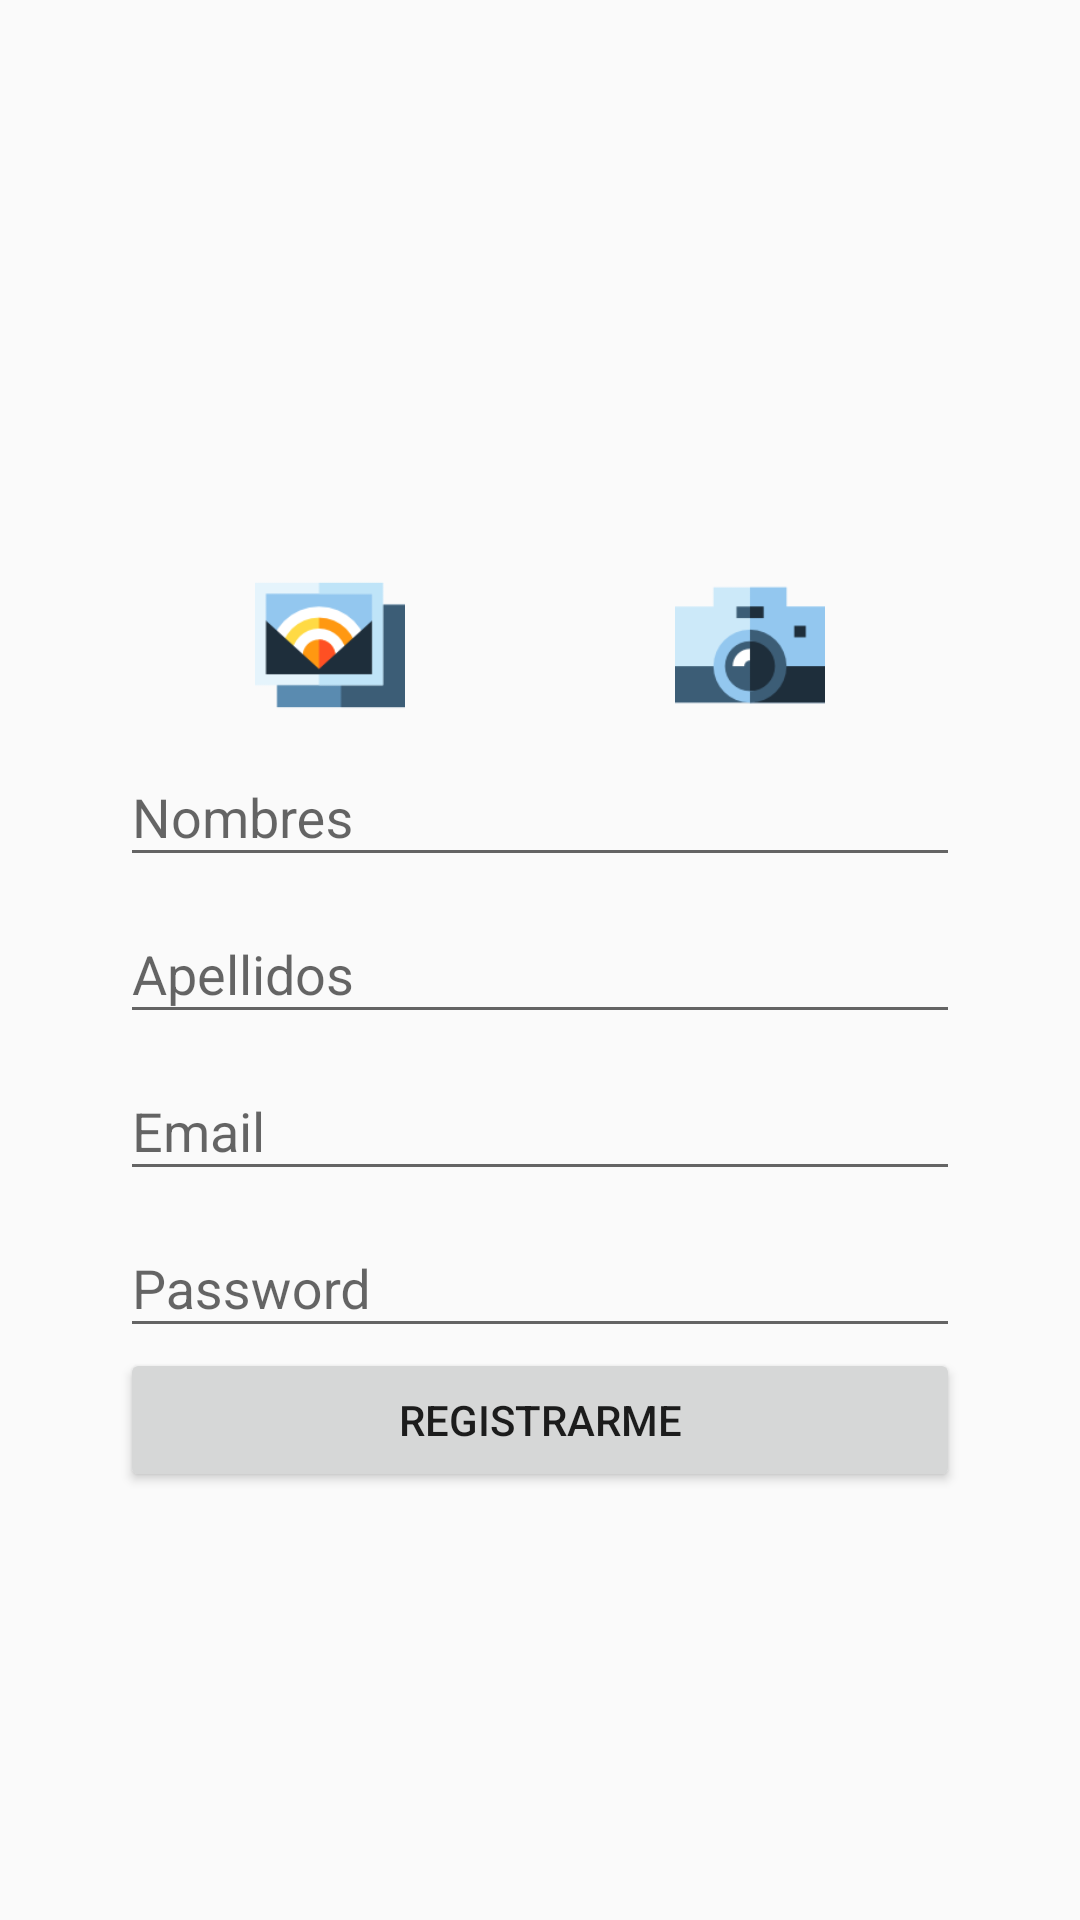

Screen size 1080px x 1920px. Icon name, then its center in pixels as [x,y]:
camera: [750,645]
gallery: [335,645]
